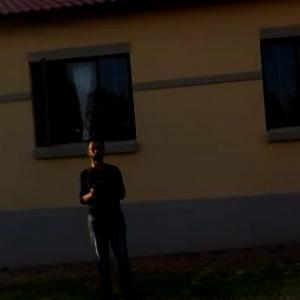follow: (77, 132, 140, 299)
